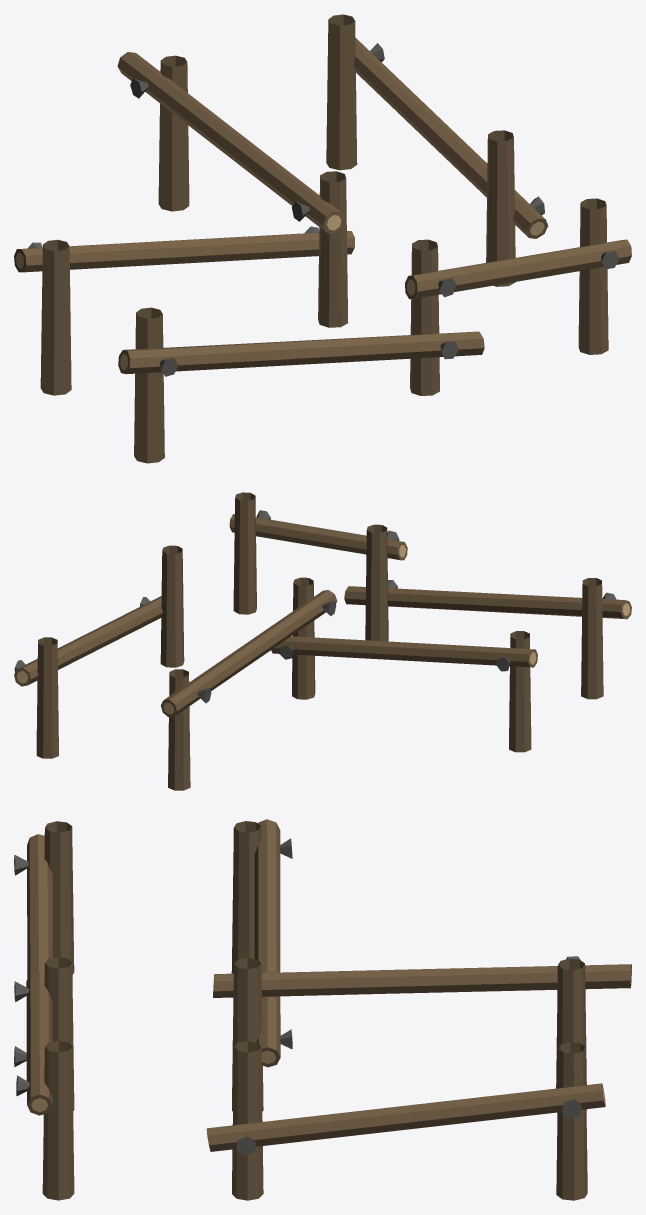
Rendered from rpgpp_ag_wall_platform_02_2x4_corner_support_01a.fbx.
3 renders of one model, top to bottom at view 1: azimuth 30°, elevation 25°; view 2: azimuth 150°, elevation 25°; view 3: azimuth 270°, elevation 25°, orthographic. The views are drawn at different scales.
Parts seen in each view (by area): view 1: rpgpp_ag_wall_platform_02_2x4_corner_support_01a; view 2: rpgpp_ag_wall_platform_02_2x4_corner_support_01a; view 3: rpgpp_ag_wall_platform_02_2x4_corner_support_01a.
Boxes of the visible parts, box(x1,y1,x2,y2) form: rpgpp_ag_wall_platform_02_2x4_corner_support_01a: box(14, 14, 631, 463); rpgpp_ag_wall_platform_02_2x4_corner_support_01a: box(14, 492, 631, 790); rpgpp_ag_wall_platform_02_2x4_corner_support_01a: box(14, 819, 631, 1200).
Size of the model in its own units: 6.78 by 1.8 by 6.86.
